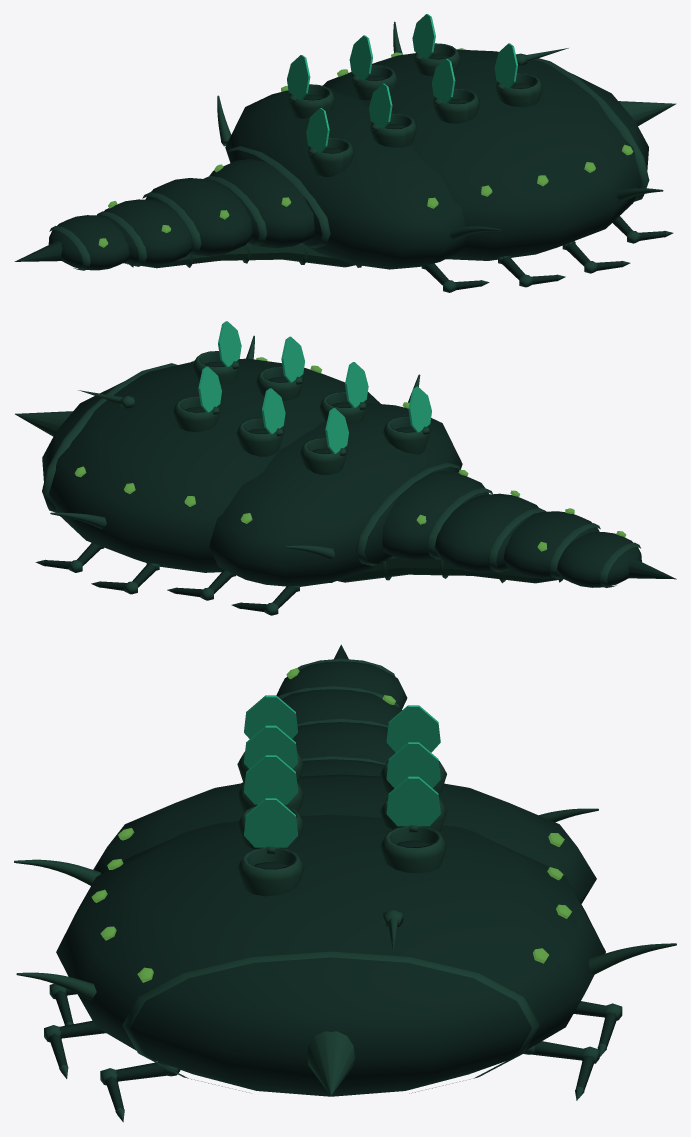
The model's file is thurible-pelagia.glb.
3 views of the same model, one above another, from view 1: azimuth 30°, elevation 25°; view 2: azimuth 150°, elevation 25°; view 3: azimuth 270°, elevation 25° (orthographic). The views are drawn at different scales.
Visible parts, largest first — view 1: lobe_5, lobe_4, lobe_3, lobe_2, lobe_1, lobe_0, keel, lobe_ring_5, cell_s3_cup, lobe_ring_4, cell_s1_cup, cell_s2_cup (+17 smaller); view 2: lobe_5, lobe_4, lobe_2, lobe_3, lobe_1, lobe_0, keel, lobe_ring_5, cell_p1_cup, cell_p2_cup, cell_s3_cup, lobe_ring_4 (+17 smaller); view 3: lobe_5, lobe_4, lobe_ring_5, lobe_2, lobe_1, lobe_0, cell_s0_cup, cell_p0_cup, cell_p0_lid, rostrum, cell_s0_lid, cell_s1_lid (+8 smaller).
Boxes of the visible parts, x1,y1,x2,y2 form: lobe_5: (322, 49, 648, 260); lobe_4: (225, 87, 466, 269); lobe_3: (209, 159, 314, 248); lobe_2: (145, 178, 252, 255); lobe_1: (100, 199, 193, 266); lobe_0: (48, 215, 129, 270); keel: (123, 243, 355, 268); lobe_ring_5: (521, 53, 649, 201); cell_s3_cup: (307, 137, 354, 176); lobe_ring_4: (227, 146, 330, 248); cell_s1_cup: (433, 88, 480, 123); cell_s2_cup: (370, 113, 417, 147); lobe_5: (42, 358, 380, 572); lobe_4: (209, 403, 462, 586); lobe_2: (435, 493, 538, 572); lobe_3: (382, 470, 489, 560); lobe_1: (503, 511, 599, 578); lobe_0: (557, 532, 641, 587); keel: (337, 556, 563, 583); lobe_ring_5: (42, 363, 177, 512); cell_p1_cup: (236, 418, 284, 456); cell_p2_cup: (300, 437, 347, 474); cell_s3_cup: (383, 416, 430, 454); lobe_ring_4: (356, 462, 460, 565); lobe_5: (56, 814, 605, 1096); lobe_4: (93, 774, 596, 903); lobe_ring_5: (122, 951, 539, 1093); lobe_2: (292, 722, 395, 763); lobe_1: (281, 689, 401, 725); lobe_0: (276, 661, 407, 708); cell_s0_cup: (237, 847, 304, 896); cell_p0_cup: (380, 826, 446, 873); cell_p0_lid: (386, 776, 440, 826); rostrum: (307, 1031, 354, 1095); cell_s0_lid: (244, 798, 297, 847); cell_s1_lid: (244, 755, 297, 804).
Bounding box in the file's own units: 105 × 31.93 × 65.08.
